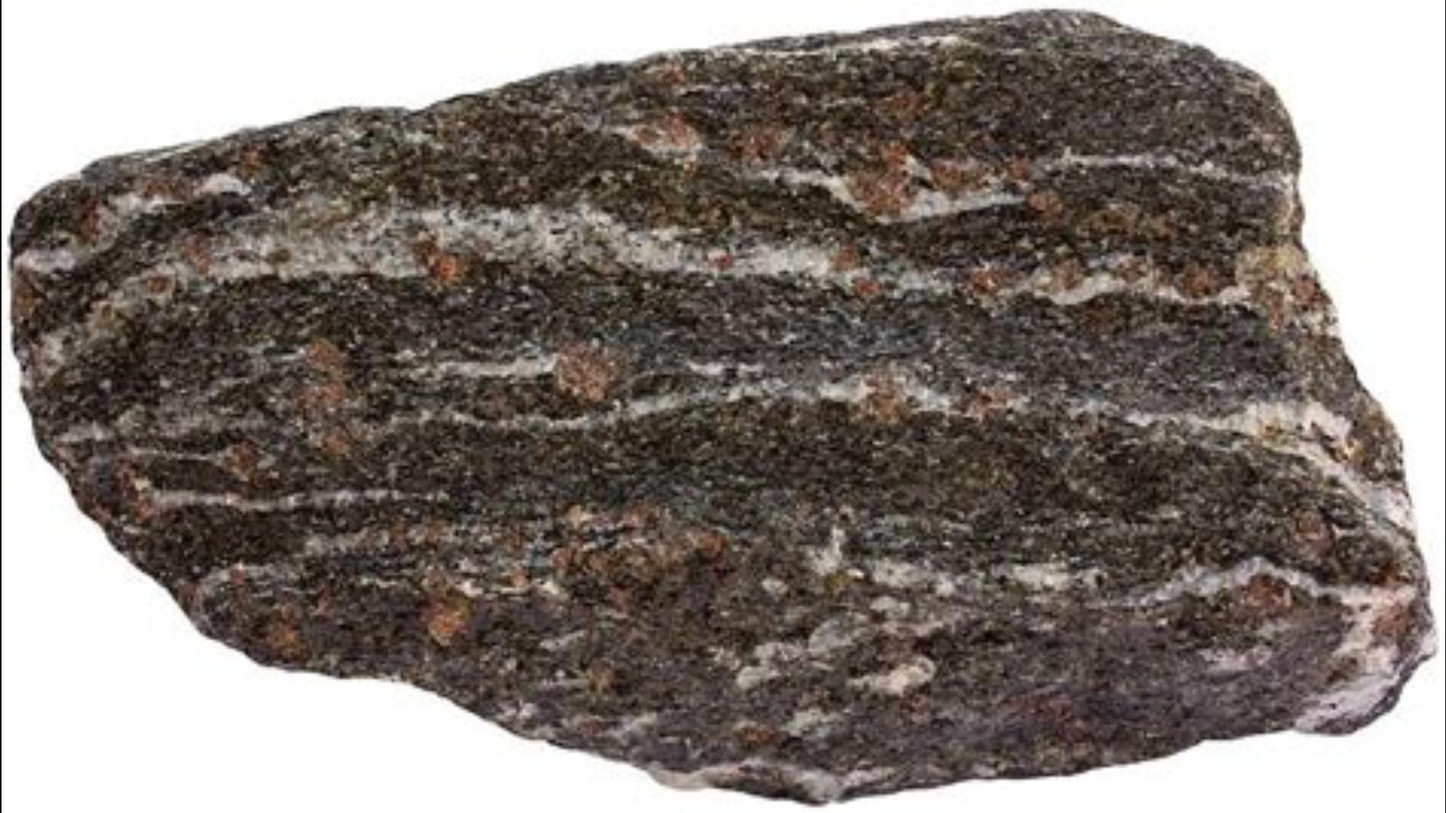rock: (13, 12, 1429, 798)
